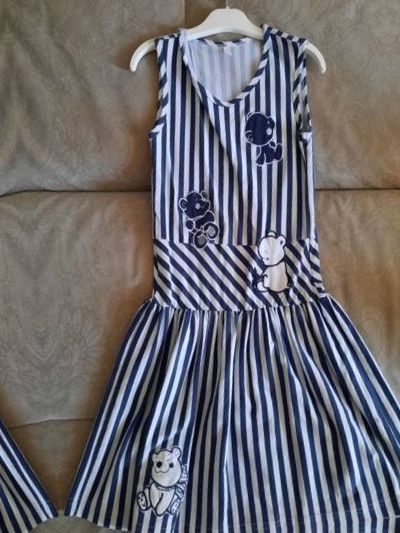Dress: (16, 3, 400, 533), (0, 45, 57, 533), (391, 0, 400, 505), (74, 520, 400, 533)
